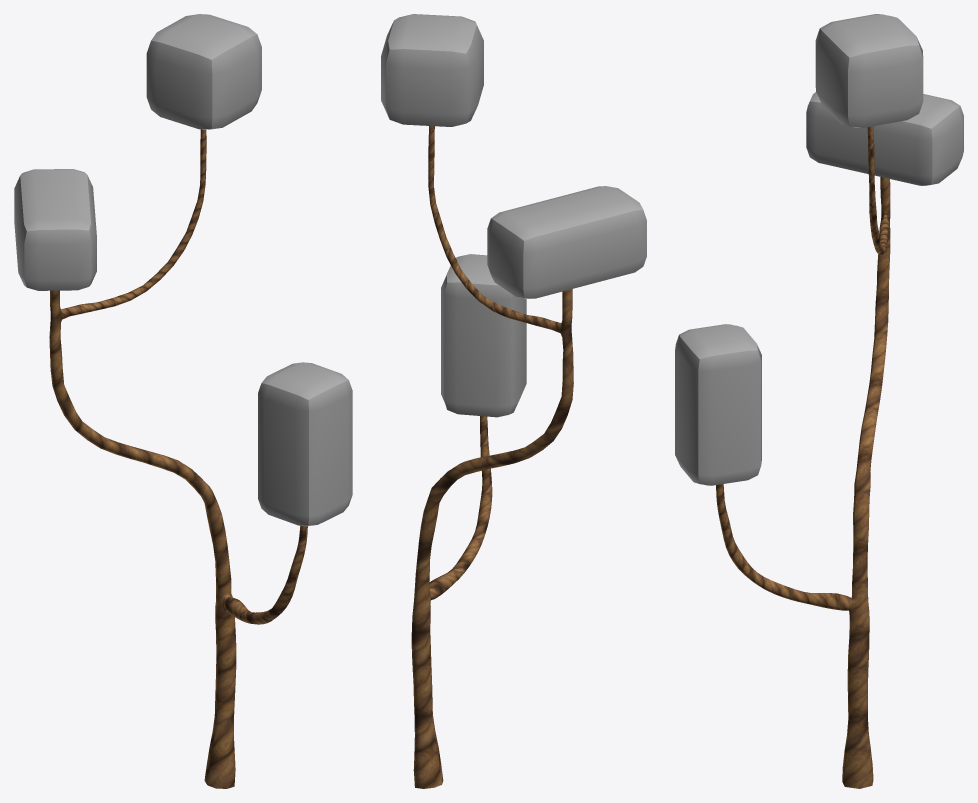
The model's file is tree_01.fbx.
The picture shows the model from 3 angles, left to right: view 1: azimuth 30°, elevation 25°; view 2: azimuth 150°, elevation 25°; view 3: azimuth 270°, elevation 25°; orthographic projection.
Parts seen in each view (by area): view 1: tree_01; view 2: tree_01; view 3: tree_01.
Part boxes in pixels (left/top/right/bottom): tree_01: left=14, top=14, right=352, bottom=788; tree_01: left=381, top=14, right=646, bottom=788; tree_01: left=675, top=14, right=963, bottom=788.
Bounding box in the file's own units: 3.1 × 8.63 × 3.01.
